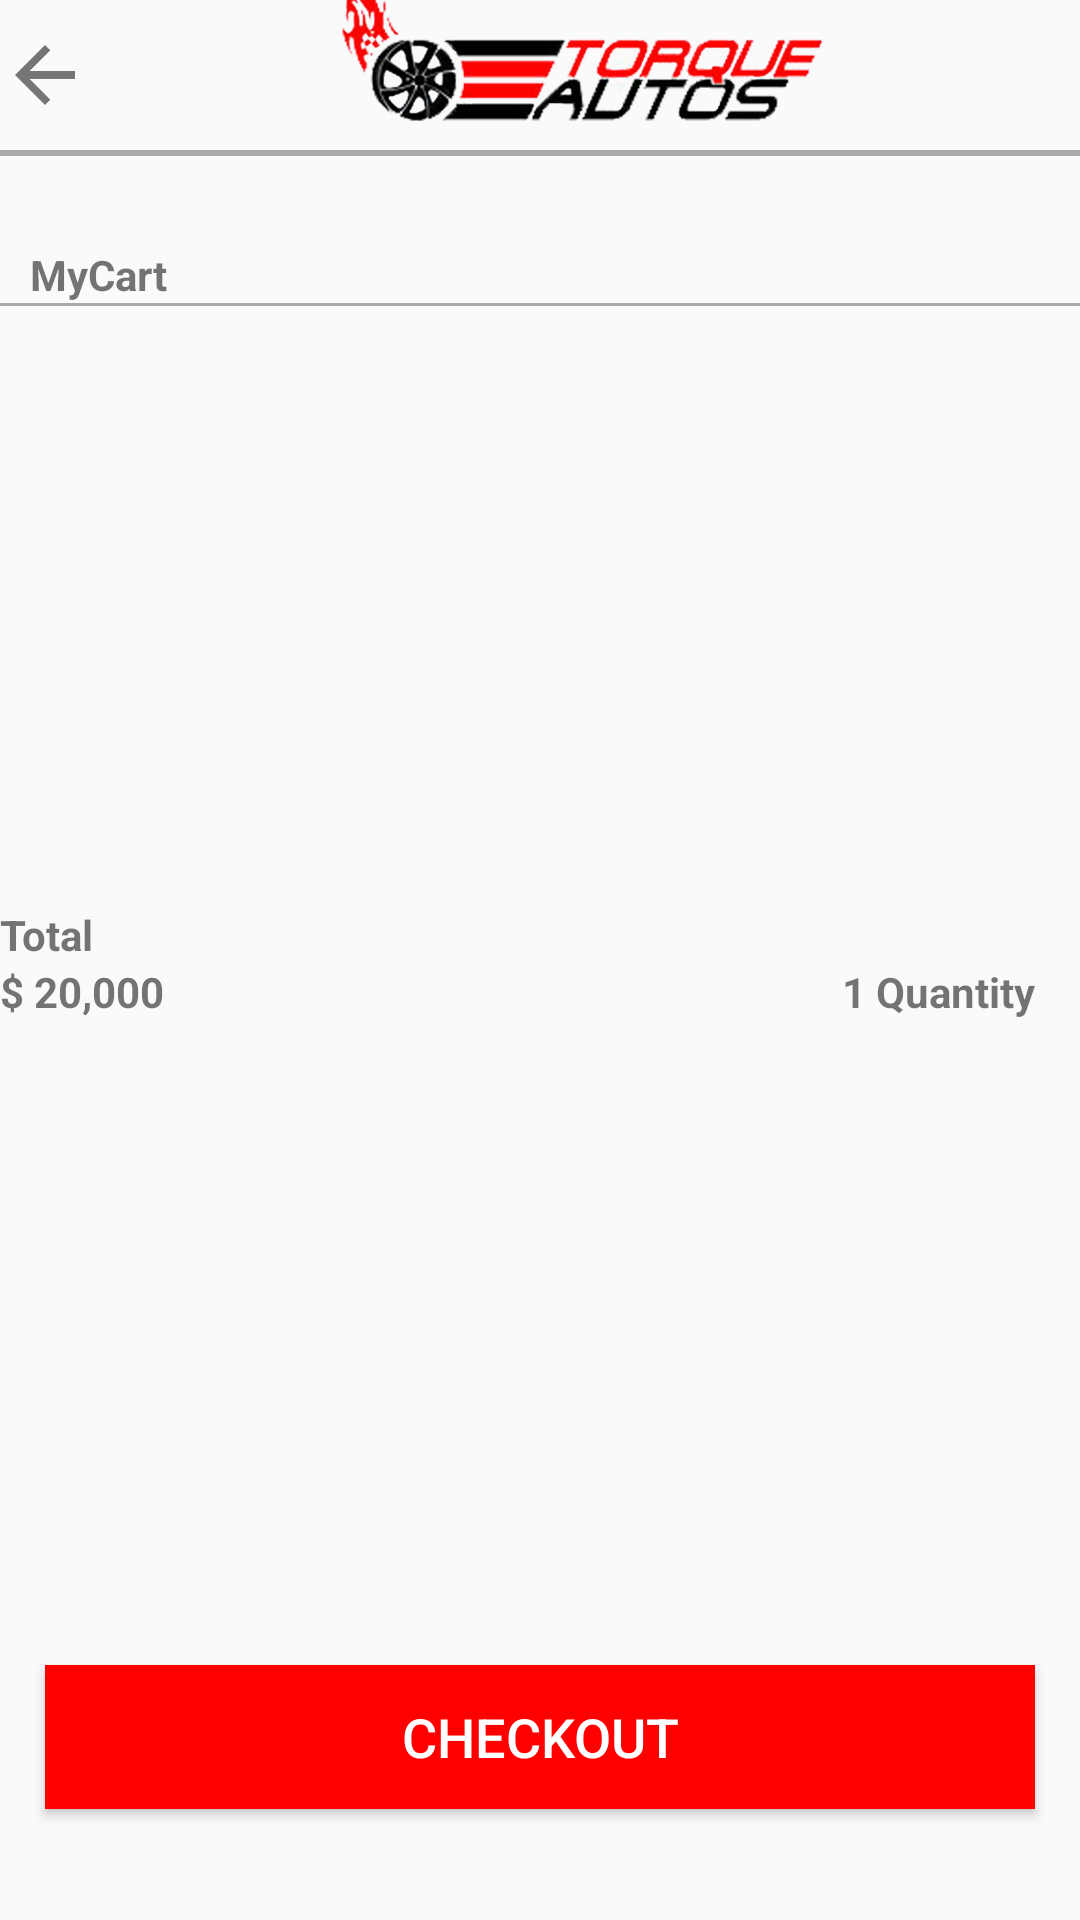

Where icons sit on this 1080px×1920px app screen, as (x1, y1, x2, y2):
arrow: (15, 45, 75, 105)
